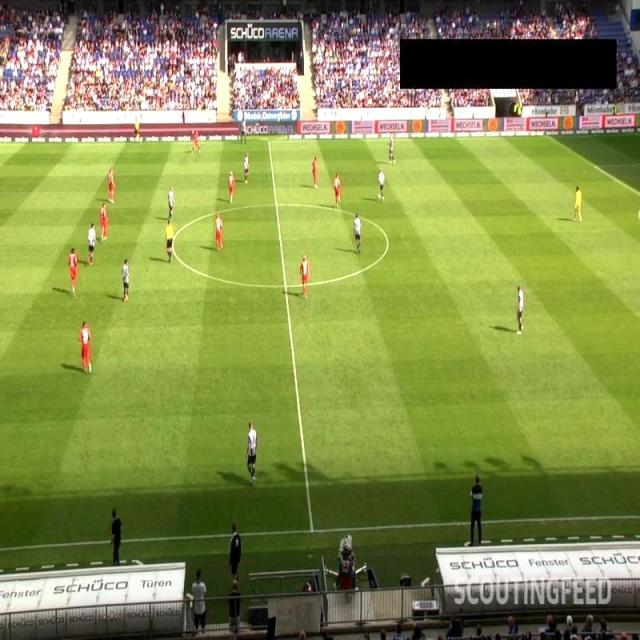bigarea_top_inner: (592, 161, 602, 172)
halfcircle_bottom: (278, 280, 291, 294)
halfcircle_top: (270, 198, 282, 208)
midline_bottom_intersection: (304, 522, 320, 541)
midline_top_intersection: (263, 136, 274, 146)
